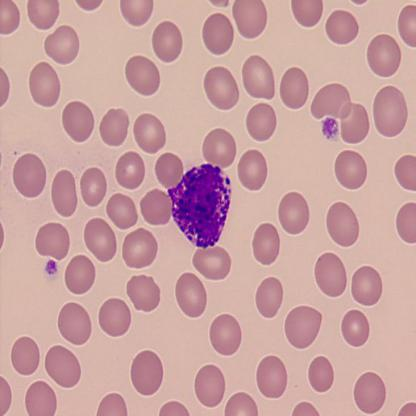Basophil: (166, 160, 234, 252)
